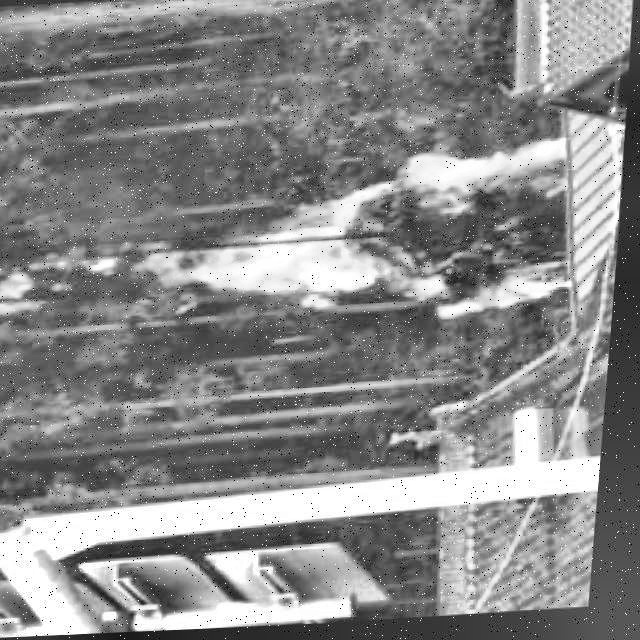Fire: (119, 144, 582, 352), (0, 250, 75, 325)
